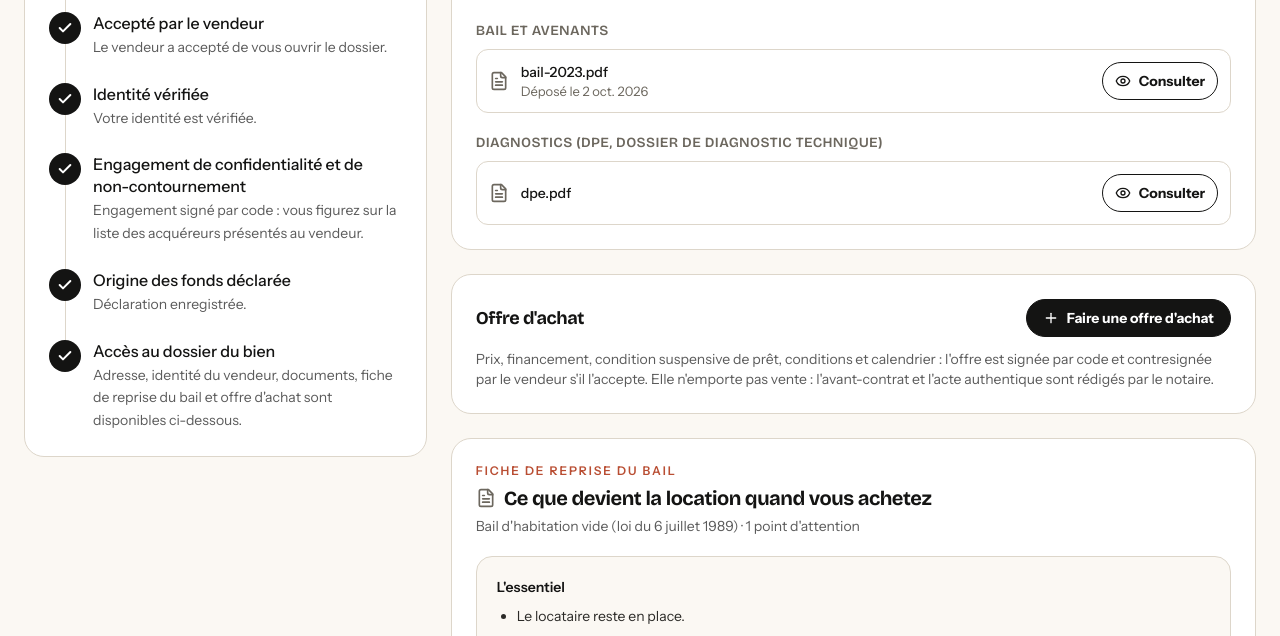
Test case: DataroomPage › accès accordé : adresse révélée, documents par catégorie, fiche de reprise du bail, offre d'achat
(page scrolled)
Expected: the element with test id "dataroom-documents" shows "bail-2023.pdf", [521,63,608,81]
Expected: the element with test id "dataroom-category-bail" shows "Bail et avenants", [476,22,609,39]
Click the button with test id "open-offer-form": coordinates (1128, 318) [1026,299,1231,337]
(page scrolled)
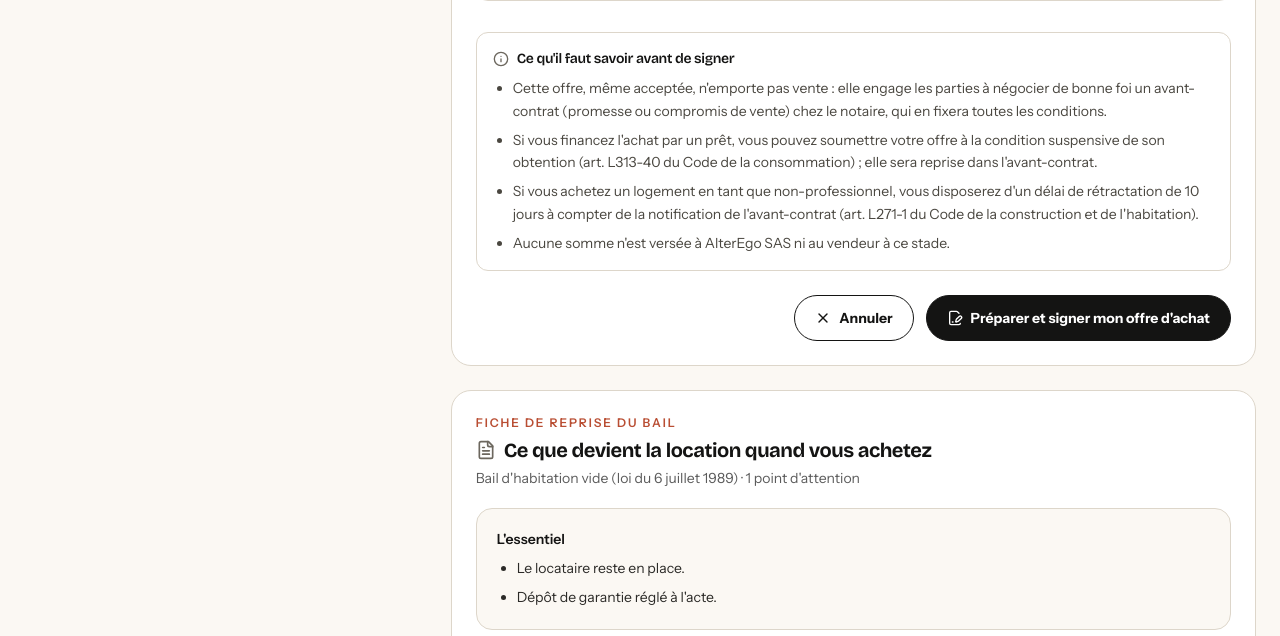
Click the button with test id "offer-submit": coordinates (1078, 318) [926,295,1231,341]
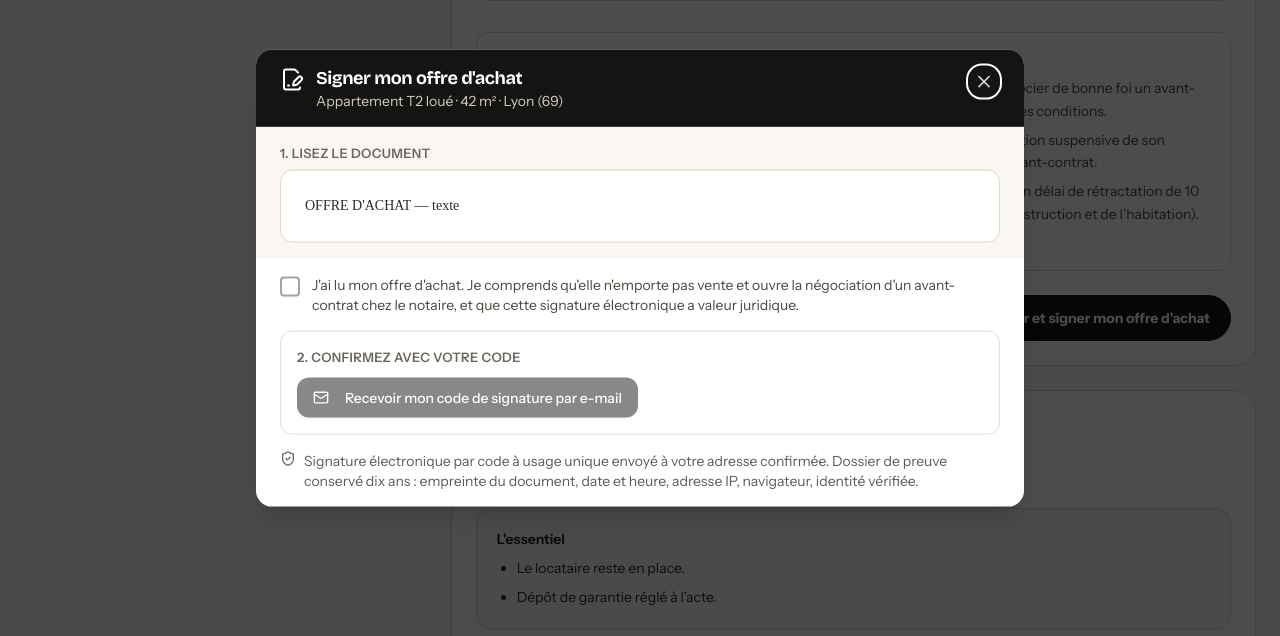
Expected: the dialog with test id "otp-signature-dialog" is shown, [256,50,1024,506]
